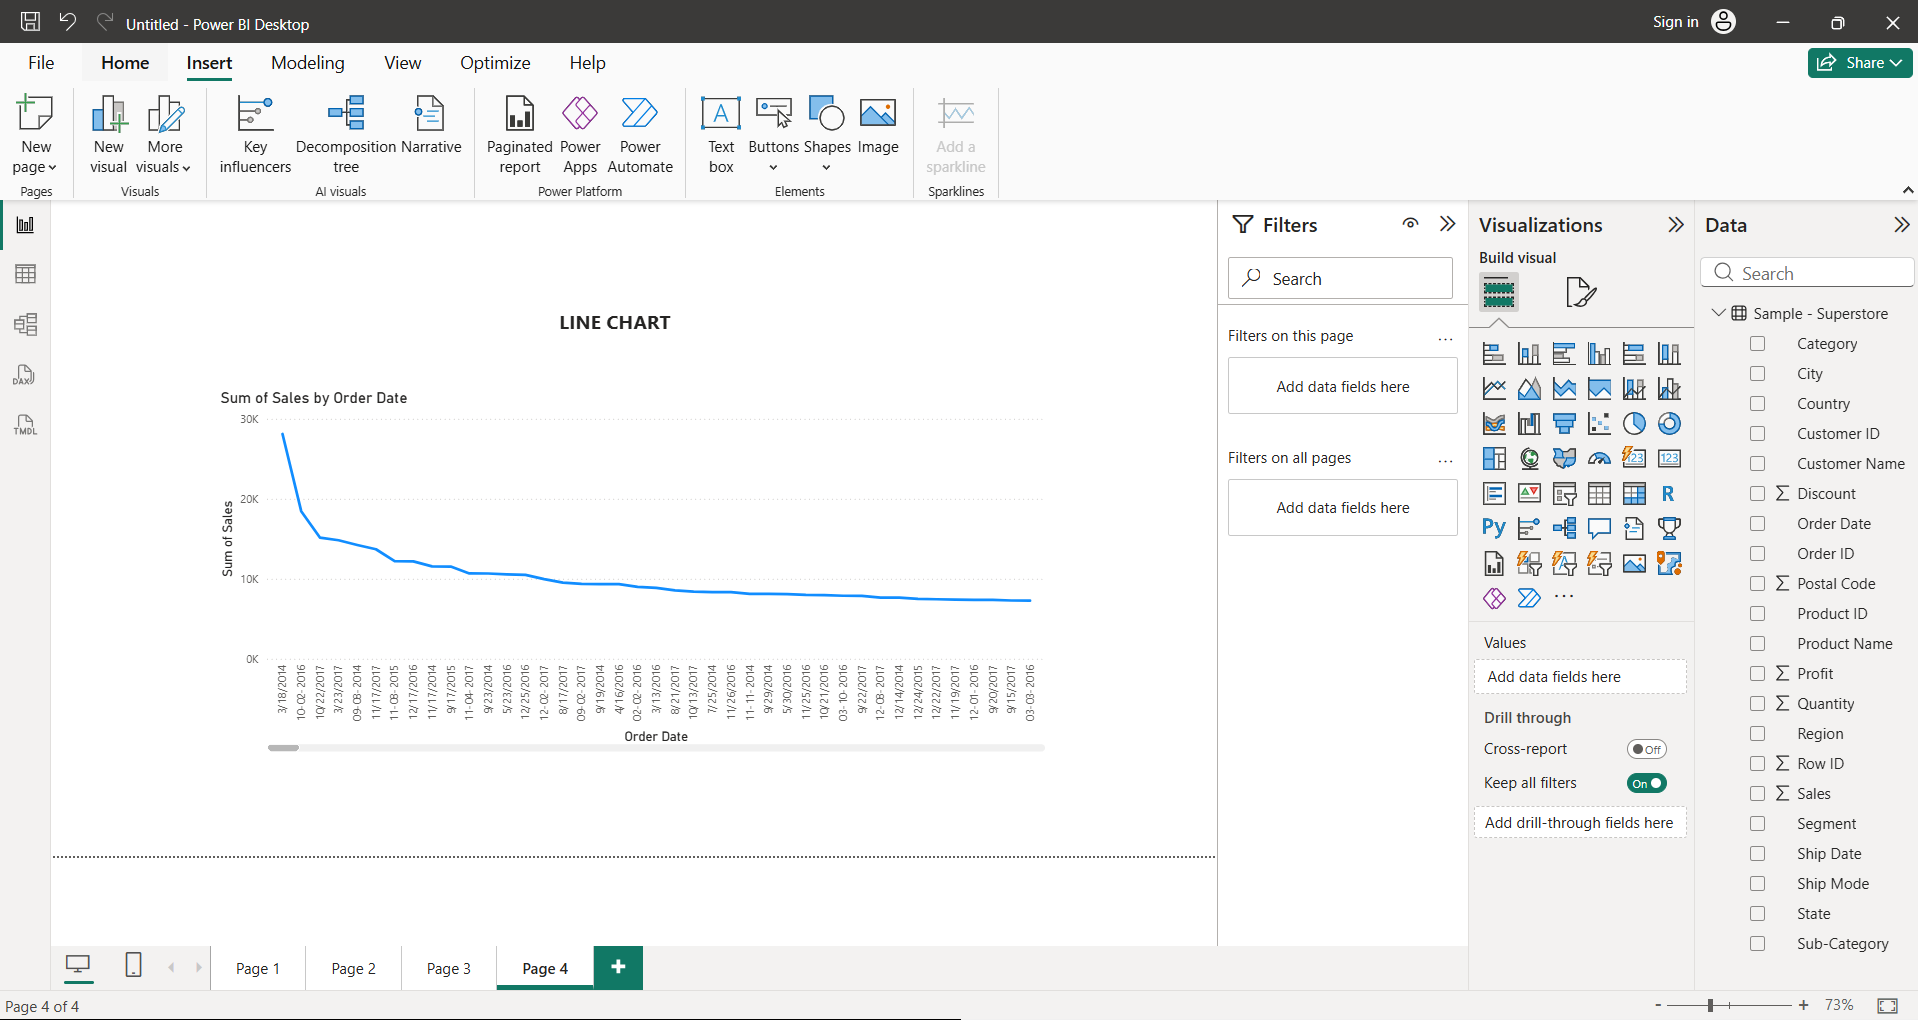

This screenshot's page, from the dashboard's own definition file:
{"tool":"powerbi","page":{"name":"Page 5","canvas":[1280,720],"ordinal":4},"visuals":[{"type":"lineChart","fields":{"Category":["Sample - Superstore.Order Date"],"Y":["Sum(Sample - Superstore.Sales)"]},"box":[263.4,198.6,753.5,445.1],"z":0},{"type":"textbox","box":[580.3,69,577.5,150.7],"z":1000}]}

Visuals, with their boxes on the page's 1280x720 design canvas (x1, y1, x2, y2). These are canvas units, not pixel positions in the 1918x1020 screenshot, which may show the page scaled, cropped or inside an application window:
lineChart - Sample - Superstore.Order Date x Sum(Sample - Superstore.Sales): 263:199:1017:644
textbox: 580:69:1158:220
